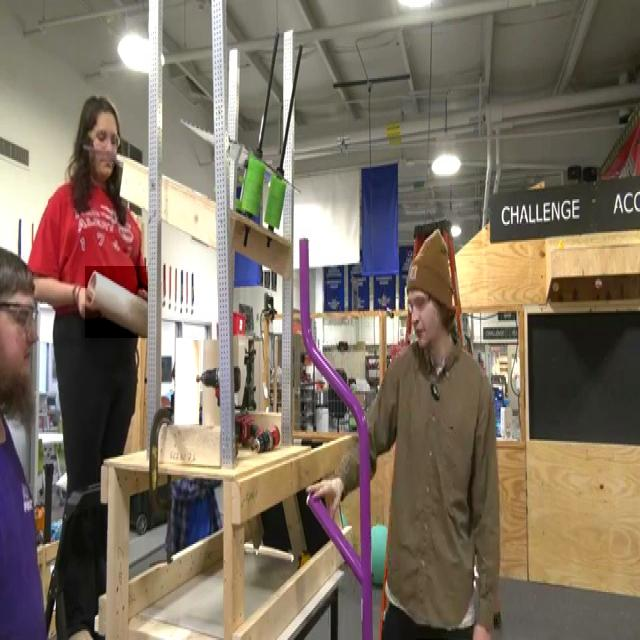Coral: (85, 266, 148, 338), (176, 338, 200, 424)
